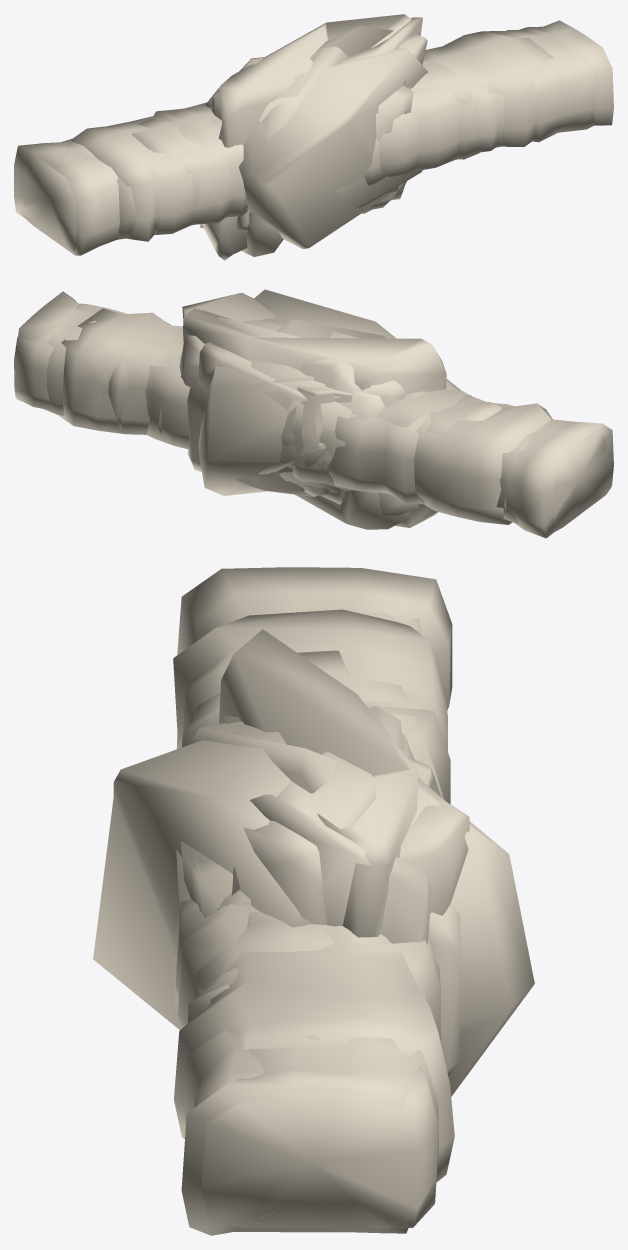
File: common-100.glb
3 views of the same model, one above another, from view 1: azimuth 30°, elevation 25°; view 2: azimuth 150°, elevation 25°; view 3: azimuth 270°, elevation 25° (orthographic). The views are drawn at different scales.
Visible parts, largest first — view 1: LINTEL_006, LARGE_010, LINTEL_003, LINTEL_005, LARGE_009, LARGE_004, LINTEL_002, LARGE_006, LARGE_002, LINTEL_001, LARGE_008, LINTEL_004 (+2 smaller); view 2: LINTEL_003, LINTEL_006, LARGE_010, LARGE_009, LINTEL_005, LARGE_004, LARGE_006, LARGE_002, LARGE_008, MAIN_047, LINTEL_002, LARGE_005 (+4 smaller); view 3: LINTEL_006, LARGE_010, LINTEL_003, LINTEL_005, LARGE_009, LARGE_006, LARGE_002, LARGE_004, LINTEL_002, LARGE_008, MAIN_047.
Boxes of the visible parts, box(x1,y1,x2,y2) form: LINTEL_006: box(14, 20, 613, 255); LARGE_010: box(239, 47, 427, 248); LINTEL_003: box(71, 31, 554, 241); LINTEL_005: box(23, 26, 595, 251); LARGE_009: box(218, 14, 411, 147); LARGE_004: box(211, 46, 347, 256); LINTEL_002: box(131, 62, 500, 217); LARGE_006: box(200, 26, 427, 228); LARGE_002: box(202, 17, 422, 260); LINTEL_001: box(147, 80, 480, 159); LARGE_008: box(336, 87, 422, 207); LINTEL_004: box(117, 93, 504, 238); LINTEL_003: box(59, 308, 552, 524); LINTEL_006: box(17, 291, 613, 538); LARGE_010: box(198, 289, 461, 495); LARGE_009: box(183, 308, 446, 517); LINTEL_005: box(14, 303, 606, 527); LARGE_004: box(187, 319, 406, 497); LARGE_006: box(217, 317, 412, 529); LARGE_002: box(179, 292, 438, 527); LARGE_008: box(198, 342, 341, 504); MAIN_047: box(281, 386, 335, 470); LINTEL_002: box(178, 340, 501, 504); LARGE_005: box(300, 358, 361, 394); LINTEL_006: box(175, 567, 452, 1235); LARGE_010: box(93, 724, 534, 1096); LINTEL_003: box(173, 609, 454, 1182); LINTEL_005: box(184, 611, 438, 1229); LARGE_009: box(219, 629, 418, 937); LARGE_006: box(231, 751, 376, 924); LARGE_002: box(250, 794, 431, 944); LARGE_004: box(188, 721, 460, 1075); LINTEL_002: box(196, 650, 409, 984); LARGE_008: box(171, 799, 469, 1010); MAIN_047: box(181, 757, 440, 918).
Size of the model in its own units: 1.5 by 0.4875 by 0.5391.
